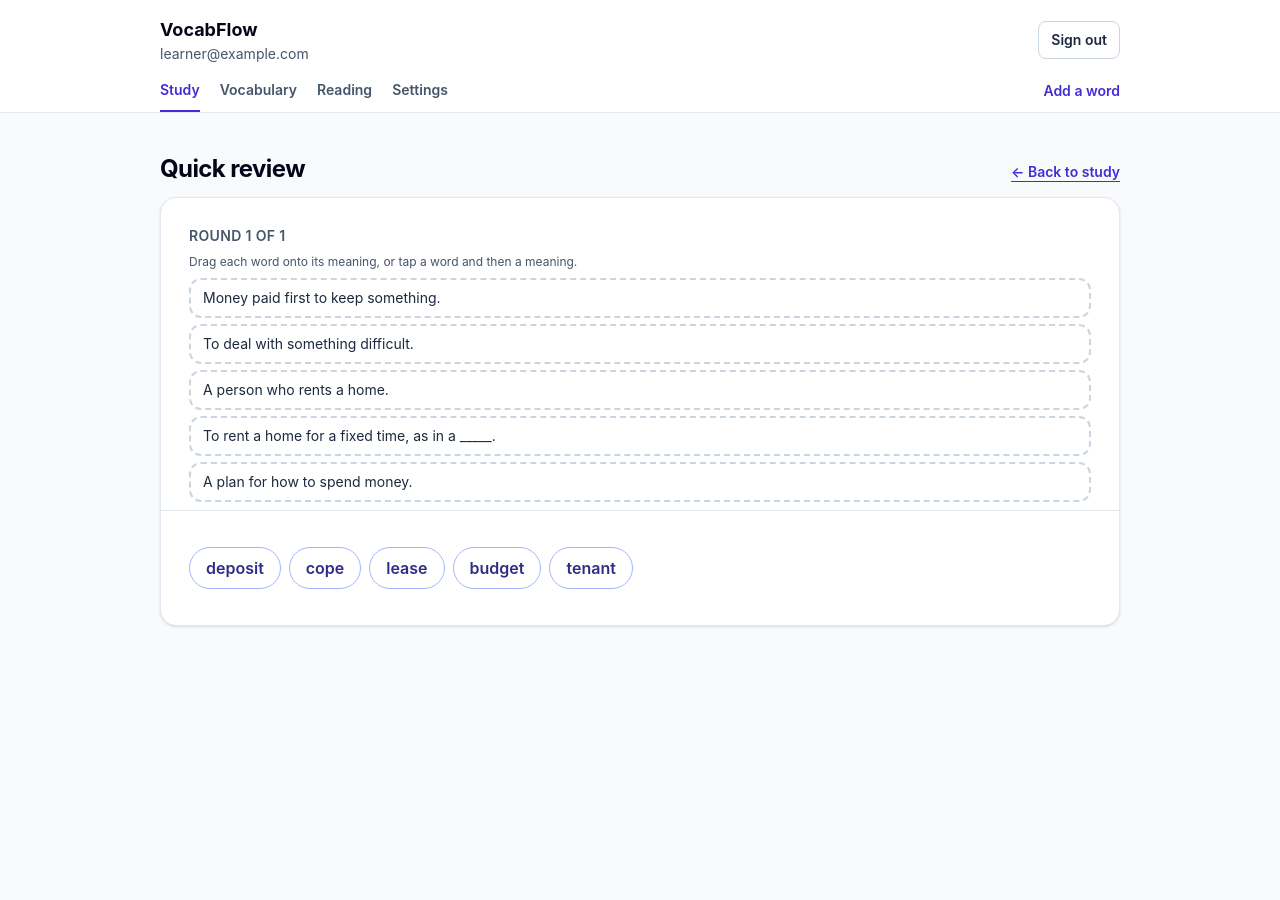
it: choosing a meaning before a word asks for a word first
Click the button "To deal with something difficult.". click: click(308, 344)
box: [189,324,1091,364]
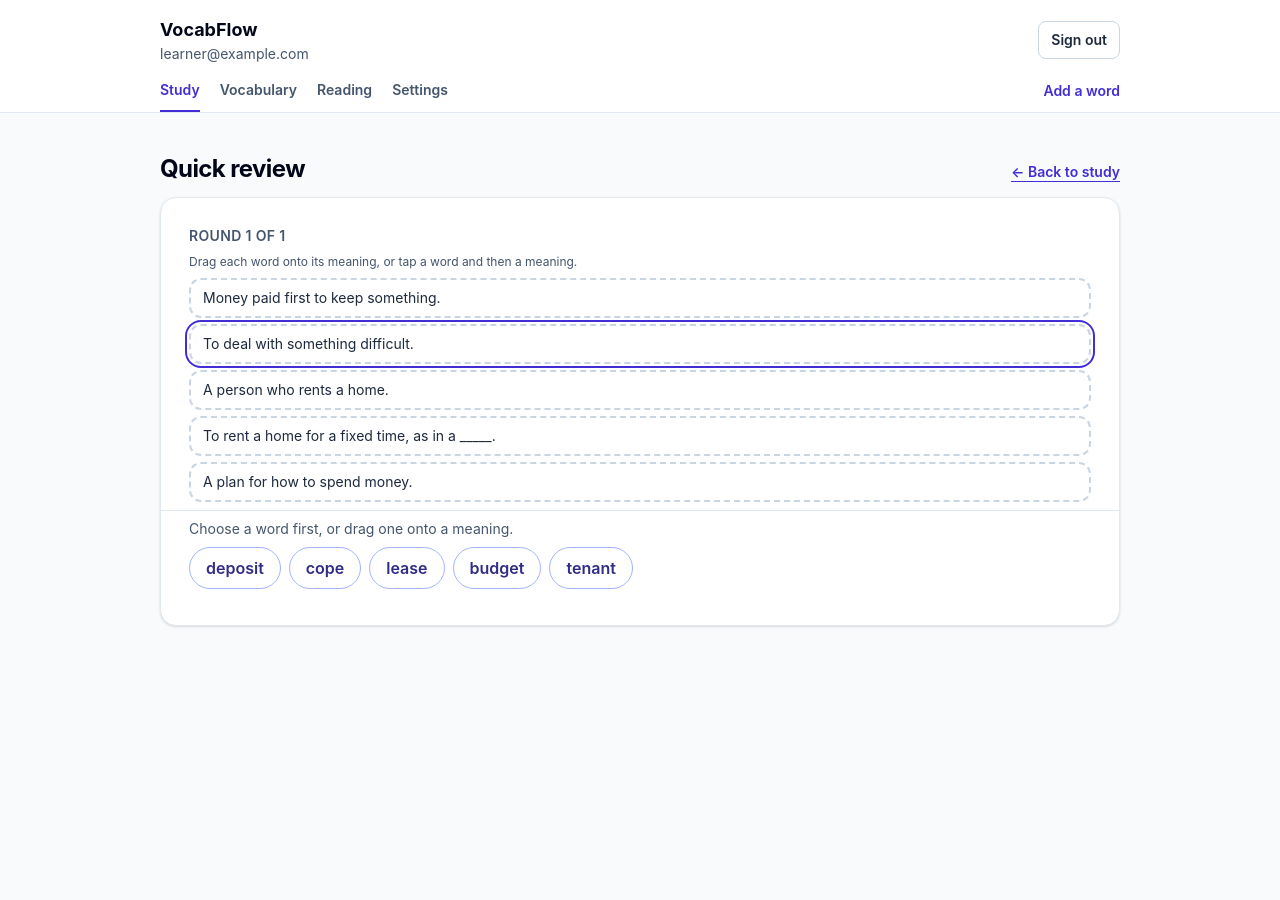
Check: the message shows "Choose a word first", box [189,520,513,537]
